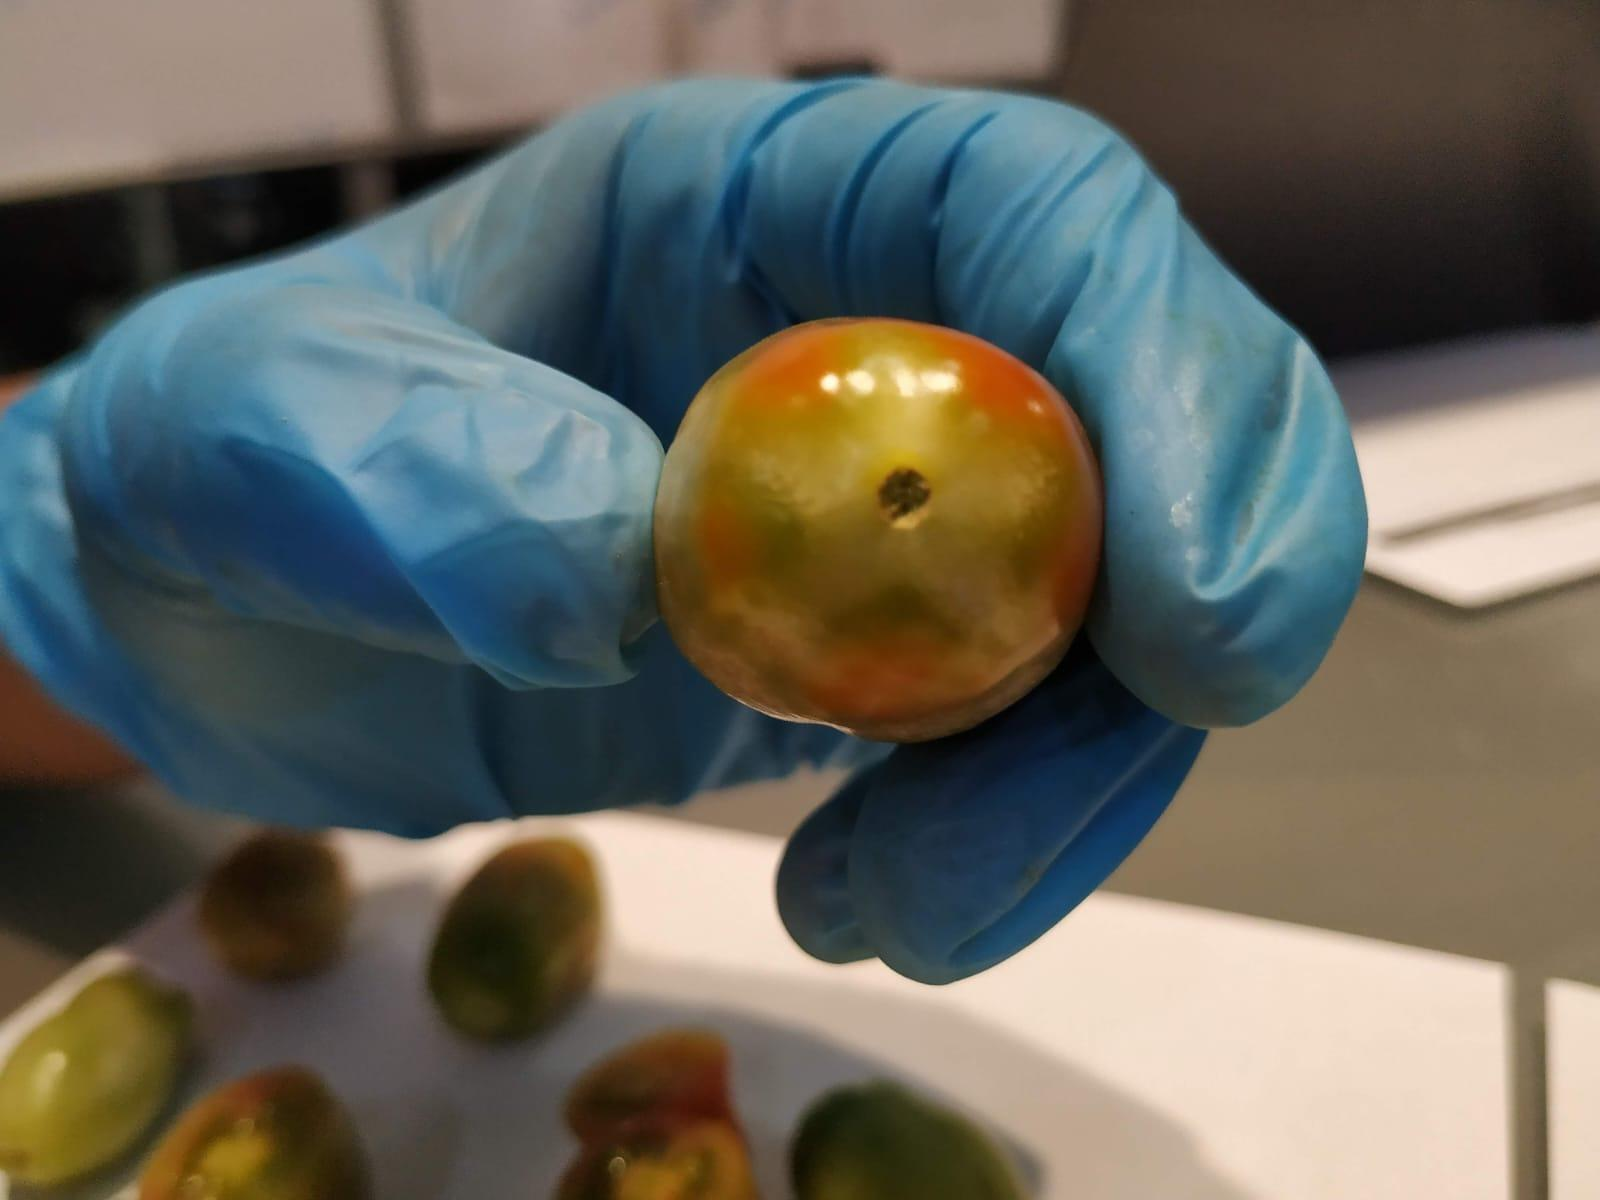Rugose tomato: (653, 316, 1104, 740)
